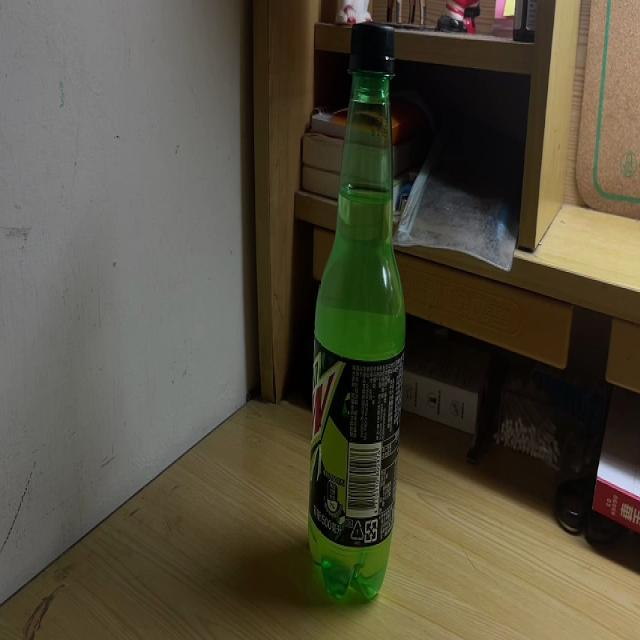Mountain-Dew: (309, 18, 408, 611)
